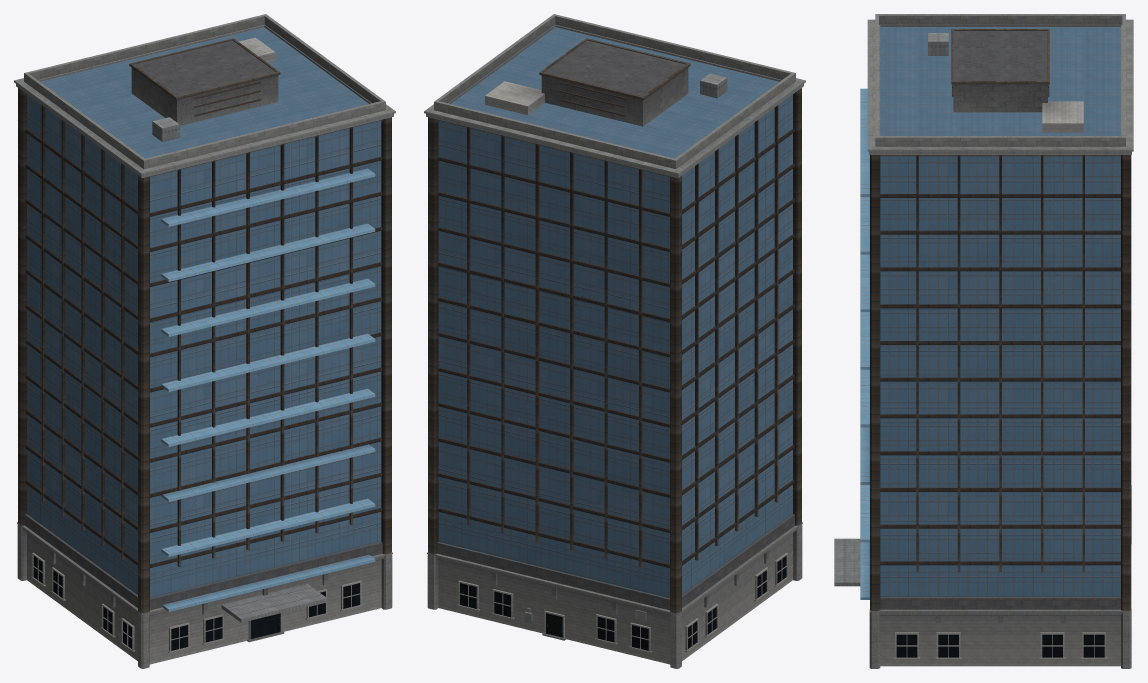
Rendered from adams-corner-condos_lod0.gltf.
3 views of the same model, side by side, from view 1: azimuth 30°, elevation 25°; view 2: azimuth 150°, elevation 25°; view 3: azimuth 270°, elevation 25° (orthographic). The views are drawn at different scales.
Parts seen in each view (by area): view 1: adams-corner-condos_upper, adams-corner-condos__v4_metal_detail, adams-corner-condos__v4_stone_detail, adams-corner-condos__balconies, adams-corner-condos_base, adams-corner-condos_fen_07-glass-curtain-blue_1_t, adams-corner-condos_fen_15-concrete-boardformed_0, adams-corner-condos__canopy, adams-corner-condos__vent; view 2: adams-corner-condos_upper, adams-corner-condos__v4_metal_detail, adams-corner-condos__v4_stone_detail, adams-corner-condos_base, adams-corner-condos_fen_07-glass-curtain-blue_1_t, adams-corner-condos_fen_15-concrete-boardformed_0, adams-corner-condos__terrace, adams-corner-condos__vent; view 3: adams-corner-condos_upper, adams-corner-condos__v4_metal_detail, adams-corner-condos__v4_stone_detail, adams-corner-condos_base, adams-corner-condos__balconies, adams-corner-condos_fen_07-glass-curtain-blue_1_t, adams-corner-condos__terrace, adams-corner-condos__canopy, adams-corner-condos_fen_15-concrete-boardformed_0, adams-corner-condos__vent.
Boxes of the visible parts, x1,y1,x2,y2 form: adams-corner-condos_upper: [27, 27, 381, 598]; adams-corner-condos__v4_metal_detail: [18, 38, 391, 613]; adams-corner-condos__v4_stone_detail: [14, 14, 395, 668]; adams-corner-condos__balconies: [161, 168, 375, 611]; adams-corner-condos_base: [27, 533, 381, 664]; adams-corner-condos_fen_07-glass-curtain-blue_1_t: [33, 556, 359, 650]; adams-corner-condos_fen_15-concrete-boardformed_0: [31, 552, 362, 653]; adams-corner-condos__canopy: [221, 584, 327, 622]; adams-corner-condos__vent: [152, 117, 179, 141]; adams-corner-condos_upper: [438, 27, 792, 598]; adams-corner-condos__v4_metal_detail: [428, 38, 801, 613]; adams-corner-condos__v4_stone_detail: [424, 14, 805, 668]; adams-corner-condos_base: [438, 533, 792, 664]; adams-corner-condos_fen_07-glass-curtain-blue_1_t: [460, 556, 786, 650]; adams-corner-condos_fen_15-concrete-boardformed_0: [457, 552, 788, 653]; adams-corner-condos__terrace: [485, 81, 544, 114]; adams-corner-condos__vent: [700, 73, 727, 98]; adams-corner-condos_upper: [880, 27, 1120, 596]; adams-corner-condos__v4_metal_detail: [870, 29, 1131, 610]; adams-corner-condos__v4_stone_detail: [867, 14, 1133, 668]; adams-corner-condos_base: [880, 615, 1120, 666]; adams-corner-condos__balconies: [860, 88, 869, 599]; adams-corner-condos_fen_07-glass-curtain-blue_1_t: [896, 634, 1104, 657]; adams-corner-condos__terrace: [1042, 101, 1083, 132]; adams-corner-condos__canopy: [834, 538, 860, 586]; adams-corner-condos_fen_15-concrete-boardformed_0: [894, 632, 1107, 659]; adams-corner-condos__vent: [928, 33, 948, 55].
Size of the model in its own units: 29.6 by 58.3 by 28.8.
